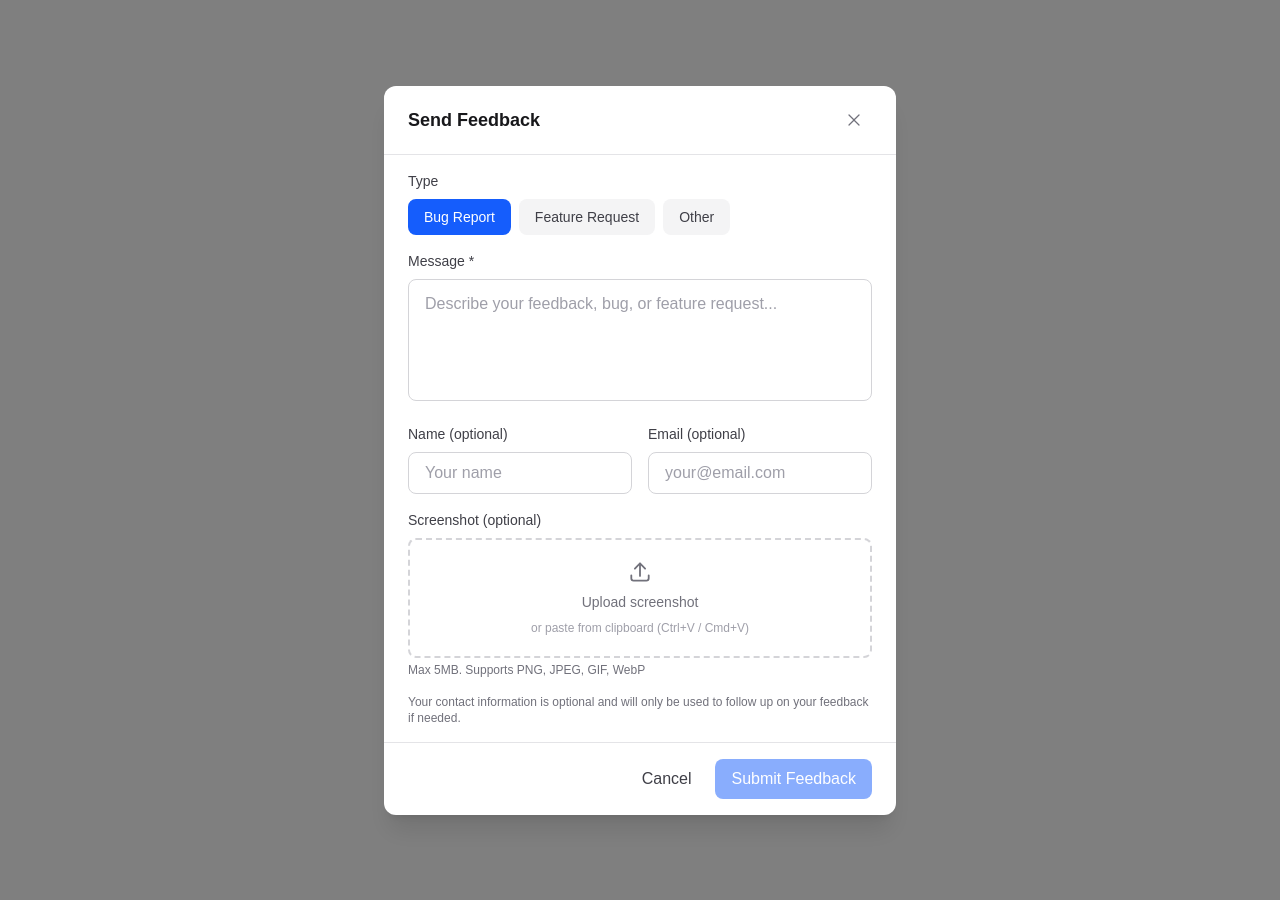
Test: FeedbackModal › shows error message on submission failure
This screenshot has width=1280, height=900.
Step 1. Type "This is a test feedback message." into the text box with test id "feedback-message" → (640, 340), box [408,278,872,400]
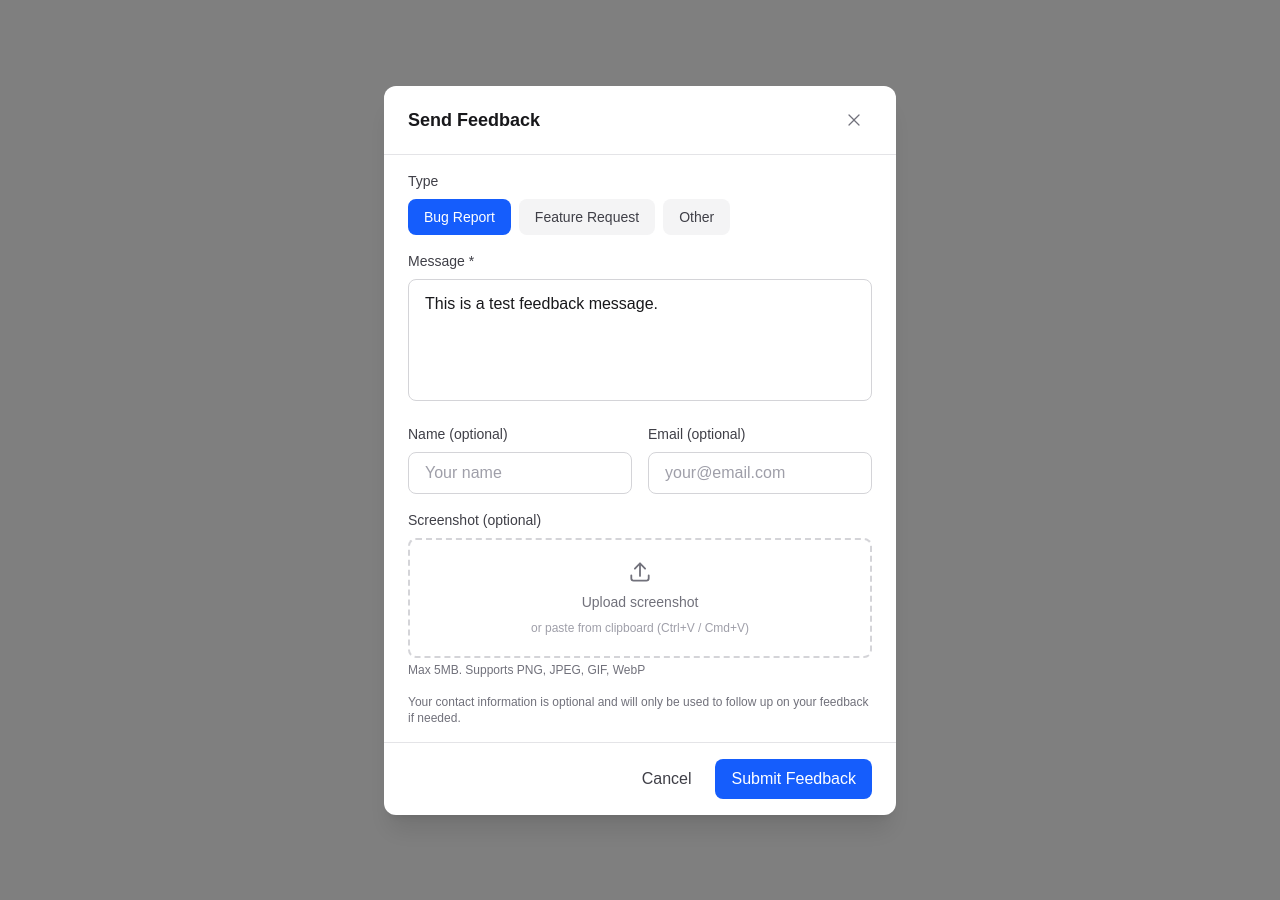
Step 2. Click the button with test id "submit-feedback" → (794, 778), box [716,758,872,798]
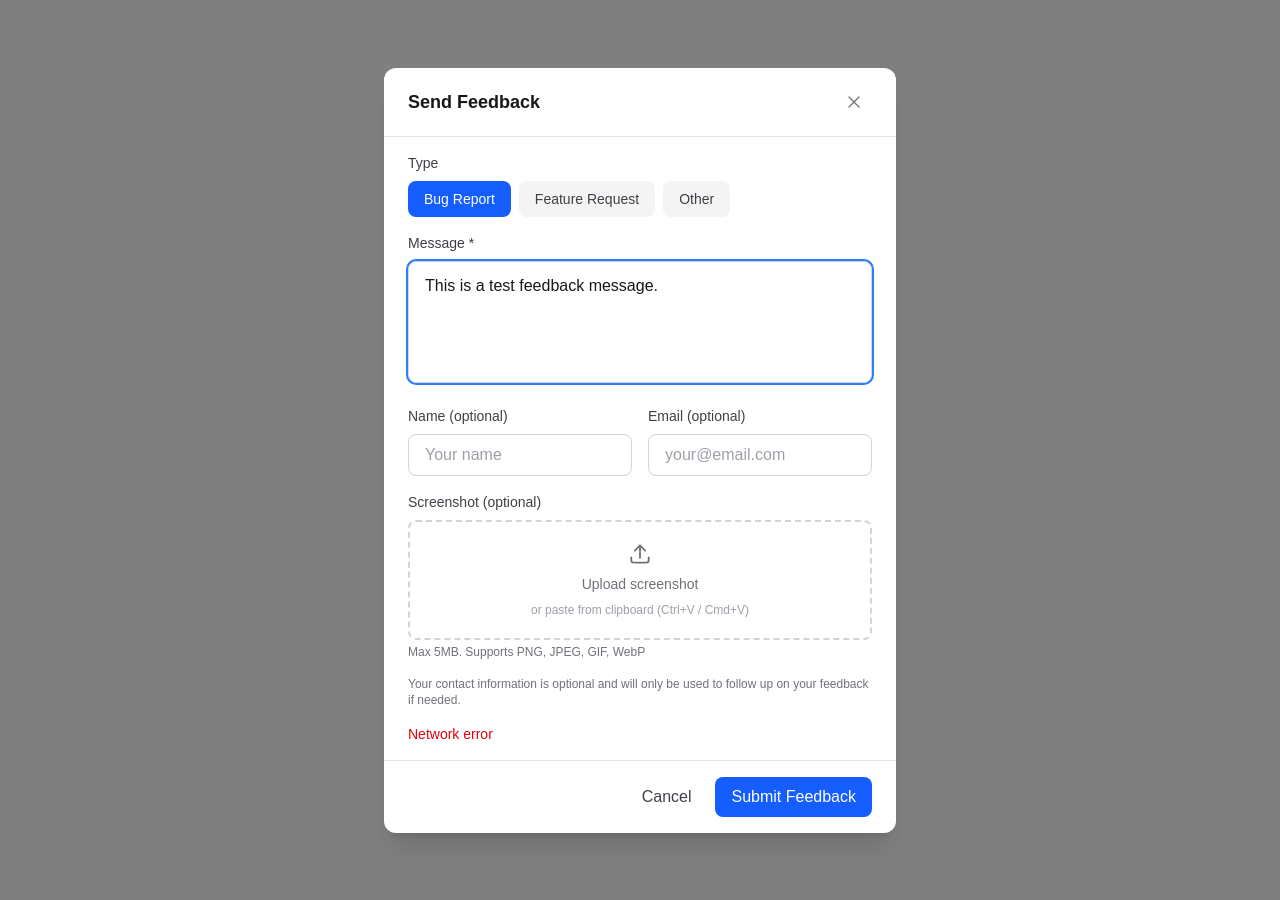
Check: the text "Network error" is shown, box [408,726,493,742]
